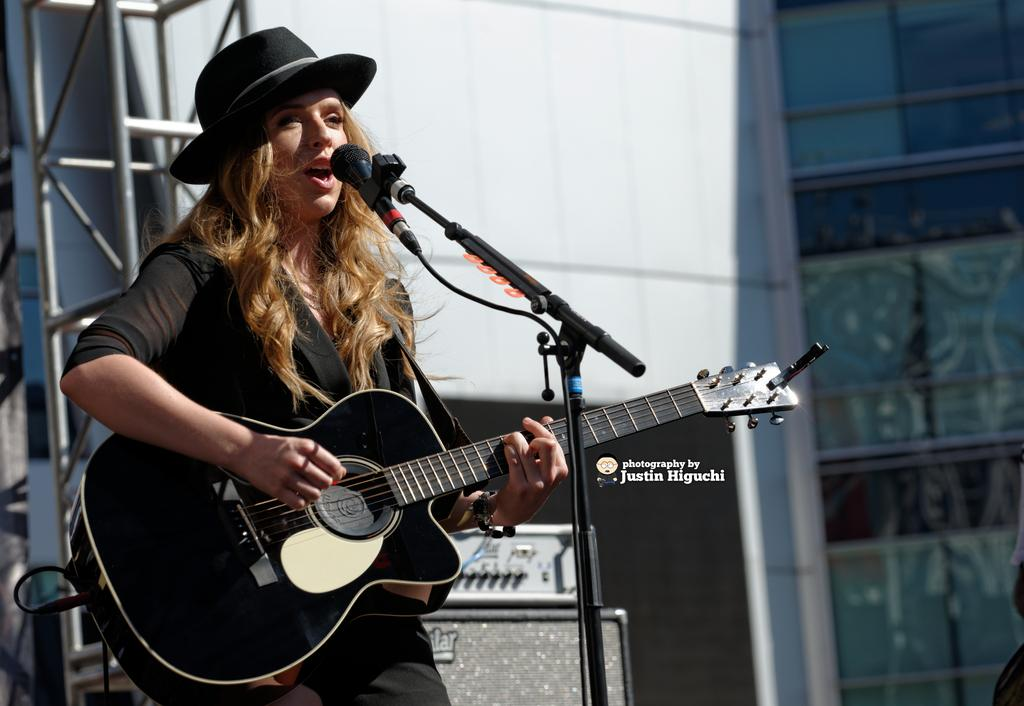Hat: (168, 24, 380, 188)
